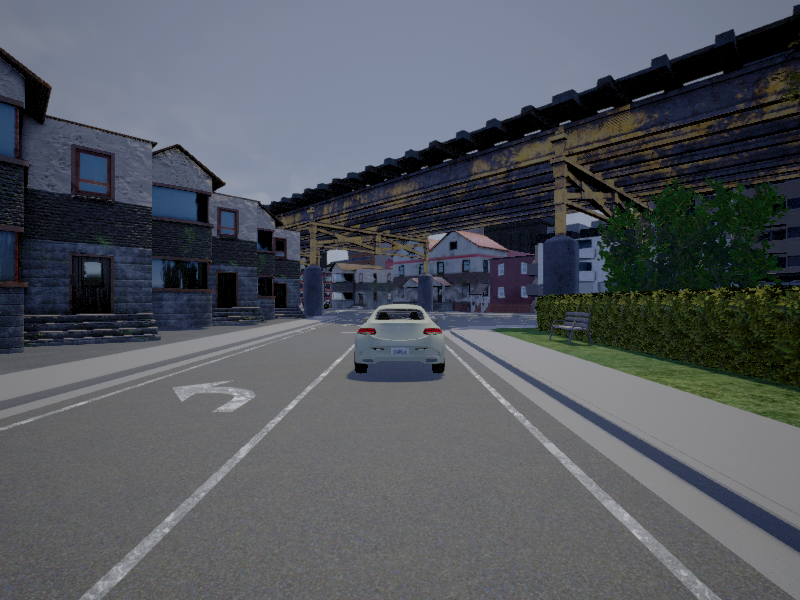Benign: (355, 303, 446, 373)
